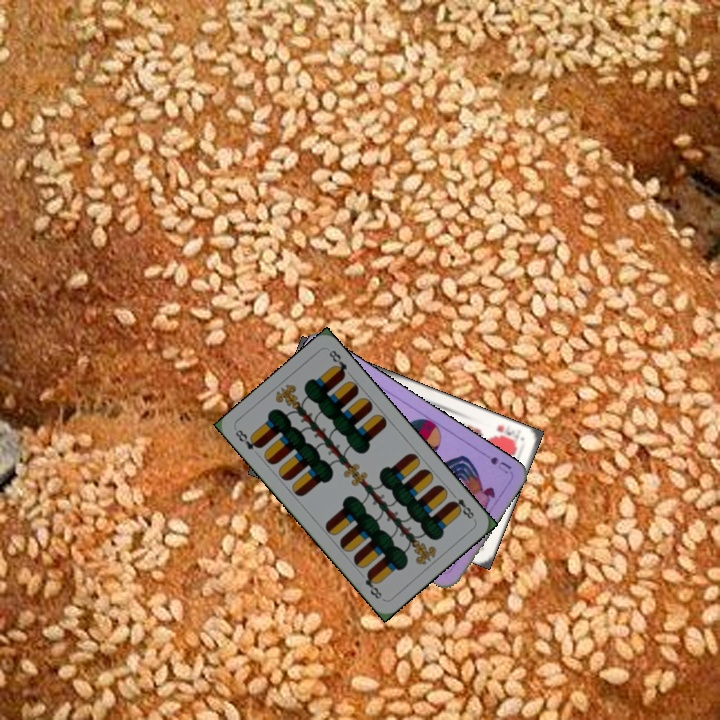E8: (446, 488, 477, 522), (231, 426, 264, 452)
HK: (492, 421, 520, 444)
SU: (476, 449, 514, 476)
